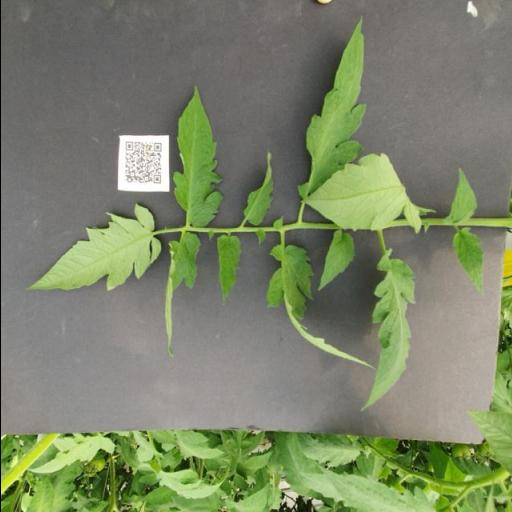Healthy: (296, 15, 366, 199), (26, 204, 160, 300), (359, 248, 416, 412), (172, 86, 222, 228), (242, 148, 274, 226), (450, 227, 484, 296), (317, 230, 356, 290), (444, 168, 477, 224), (216, 236, 242, 306)
